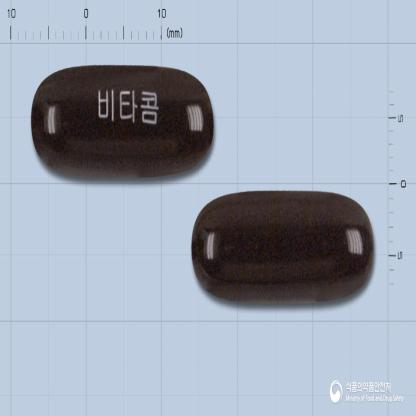pill: (190, 188, 375, 305), (30, 62, 215, 177)
